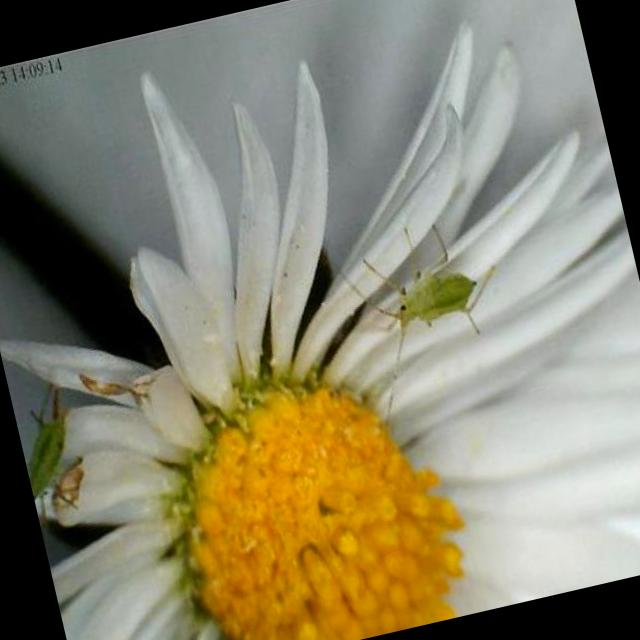aphid: (352, 228, 506, 372), (10, 384, 98, 524)
